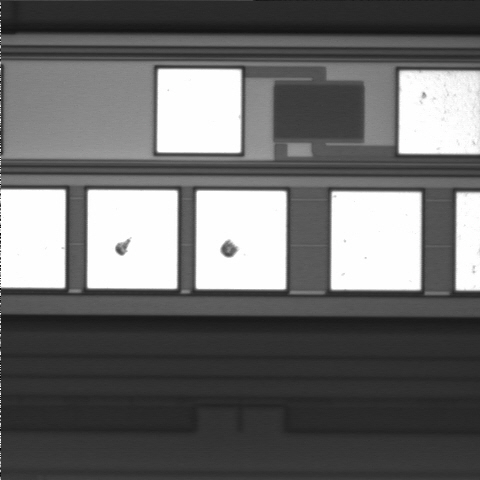pad: (87, 190, 178, 289), (196, 191, 286, 289), (331, 192, 421, 290), (157, 69, 241, 153)
